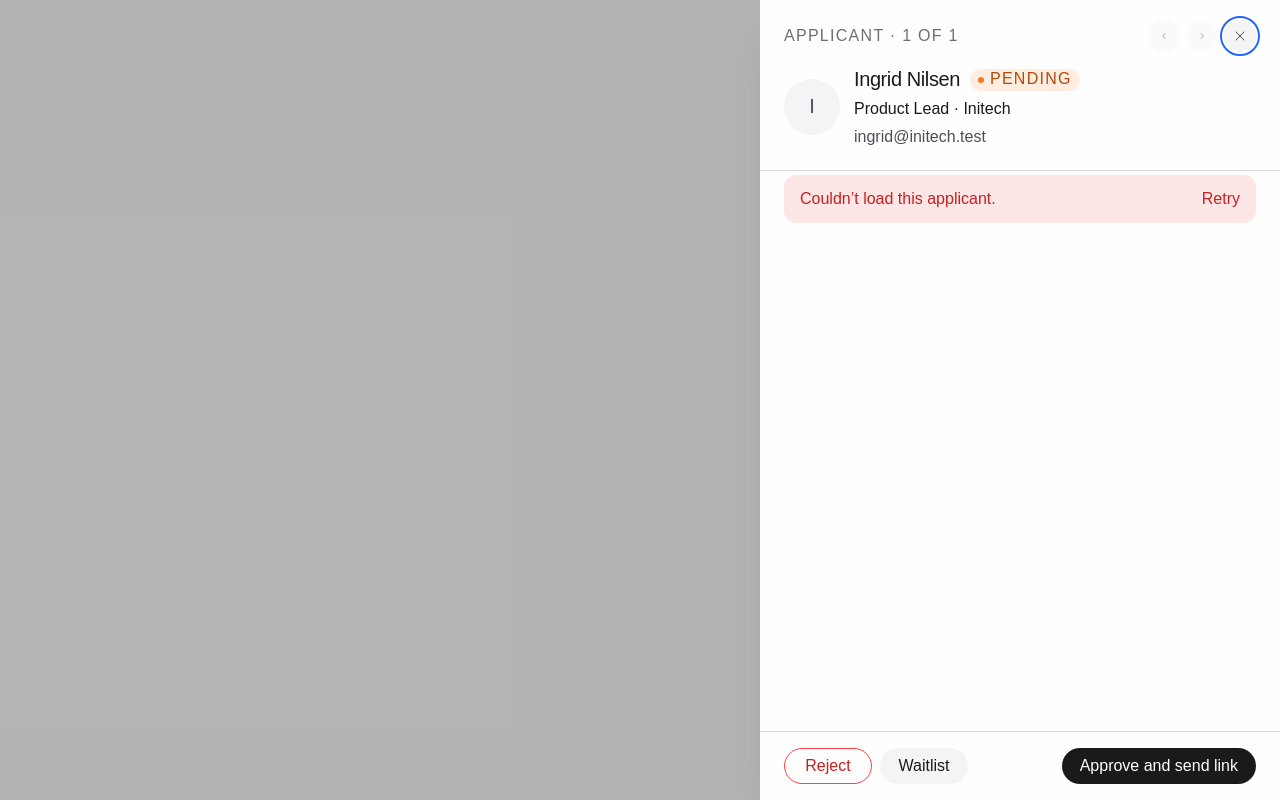
Scenario: applicant drawer host › a detail that fails to load keeps the header and offers a retry
Click the button "Retry": (1221, 199) [1202,187,1240,211]
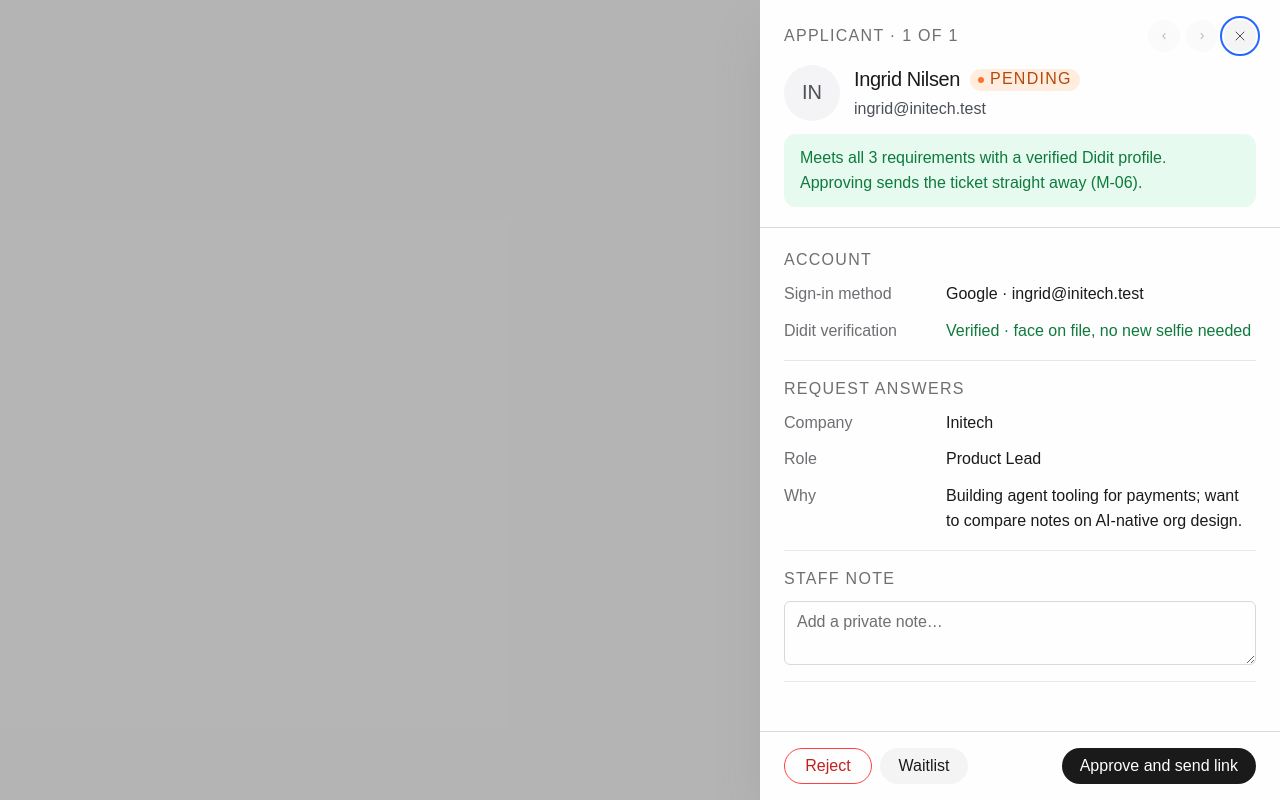
Now the dialog shows "Request answers", box [784,380,965,397]
